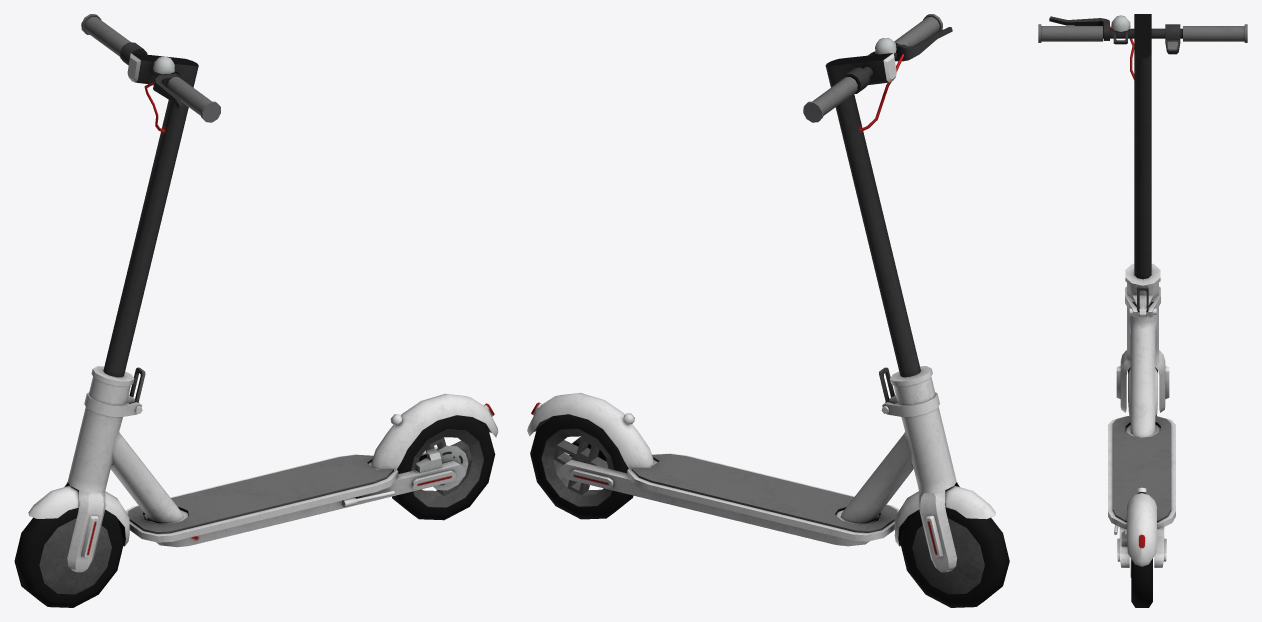
Rendered from asset.gltf.
The picture shows the model from 3 angles, left to right: view 1: azimuth 30°, elevation 25°; view 2: azimuth 150°, elevation 25°; view 3: azimuth 270°, elevation 25°; orthographic projection. The views are drawn at different scales.
Parts seen in each view (by area): view 1: ElectricScooter; view 2: ElectricScooter; view 3: ElectricScooter.
Boxes of the visible parts, x1=… form: ElectricScooter: x1=14, y1=14, x2=498, y2=607; ElectricScooter: x1=527, y1=14, x2=1009, y2=607; ElectricScooter: x1=1038, y1=14, x2=1247, y2=607.
Bounding box in the file's own units: 40.84 × 44 × 17.9.
Materials: 1 (1 with a texture image).
